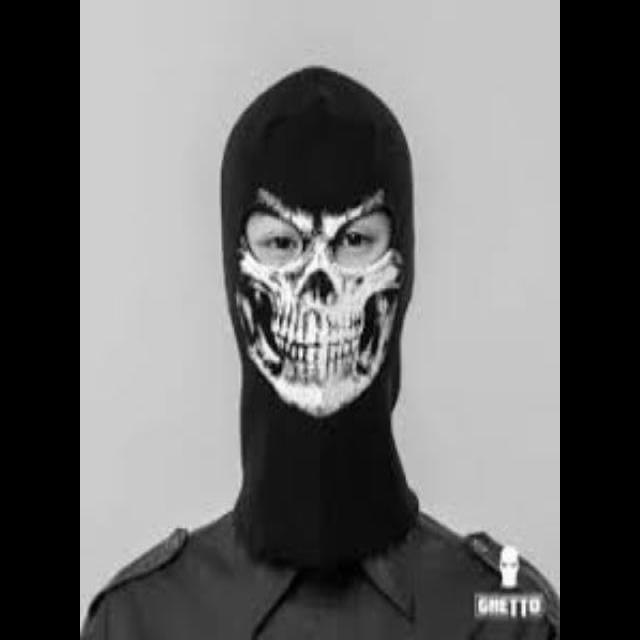6_pasamontana: (219, 66, 417, 574)
